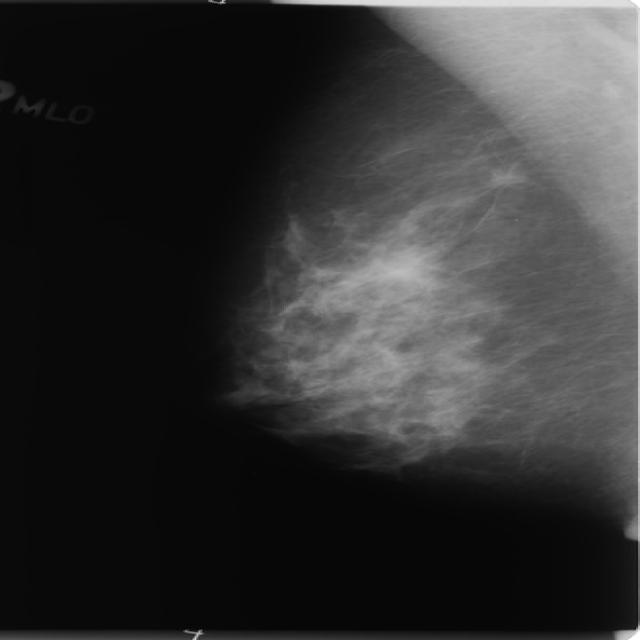tumour: (484, 163, 528, 187)
